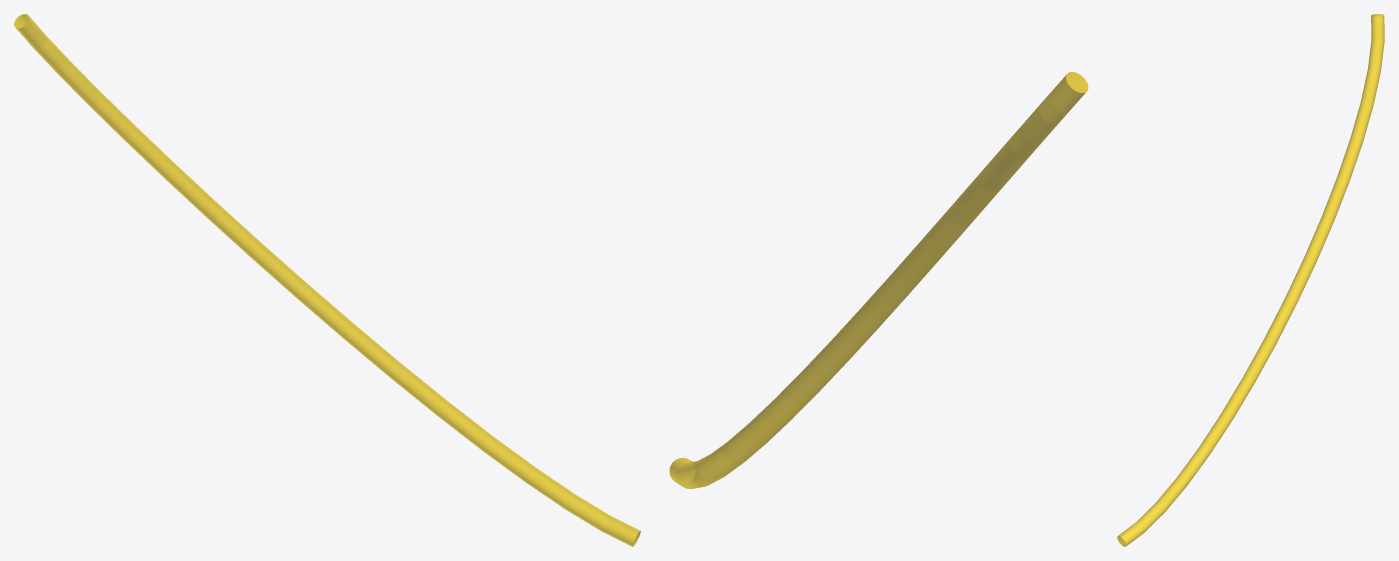
The model's file is Event_27938768_track_24.fbx.
3 views of the same model, side by side, from view 1: azimuth 30°, elevation 25°; view 2: azimuth 150°, elevation 25°; view 3: azimuth 270°, elevation 25° (orthographic). The views are drawn at different scales.
Visible parts, largest first — view 1: Model; view 2: Model; view 3: Model.
Boxes of the visible parts, <box> form: Model: <box>14,14,640,546</box>; Model: <box>669,72,1088,488</box>; Model: <box>1117,14,1384,546</box>.
Bounding box in the file's own units: 1.16 × 1.25 × 0.8029.
